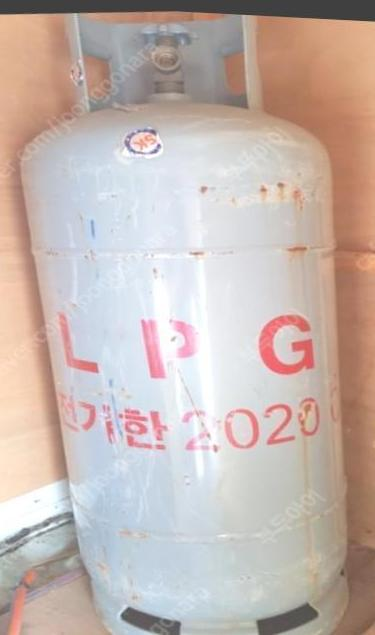cylinder: (1, 1, 375, 635)
